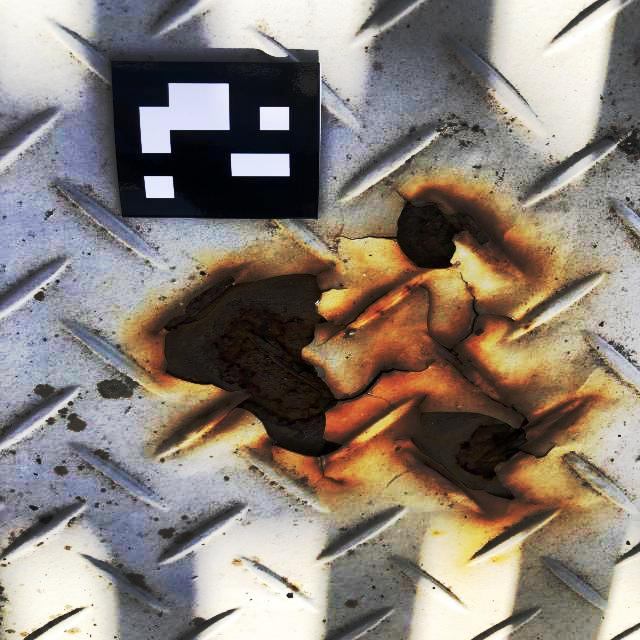Corrosion: (341, 284, 580, 437), (164, 274, 340, 456), (411, 412, 528, 500), (397, 202, 490, 268), (334, 287, 394, 332)
